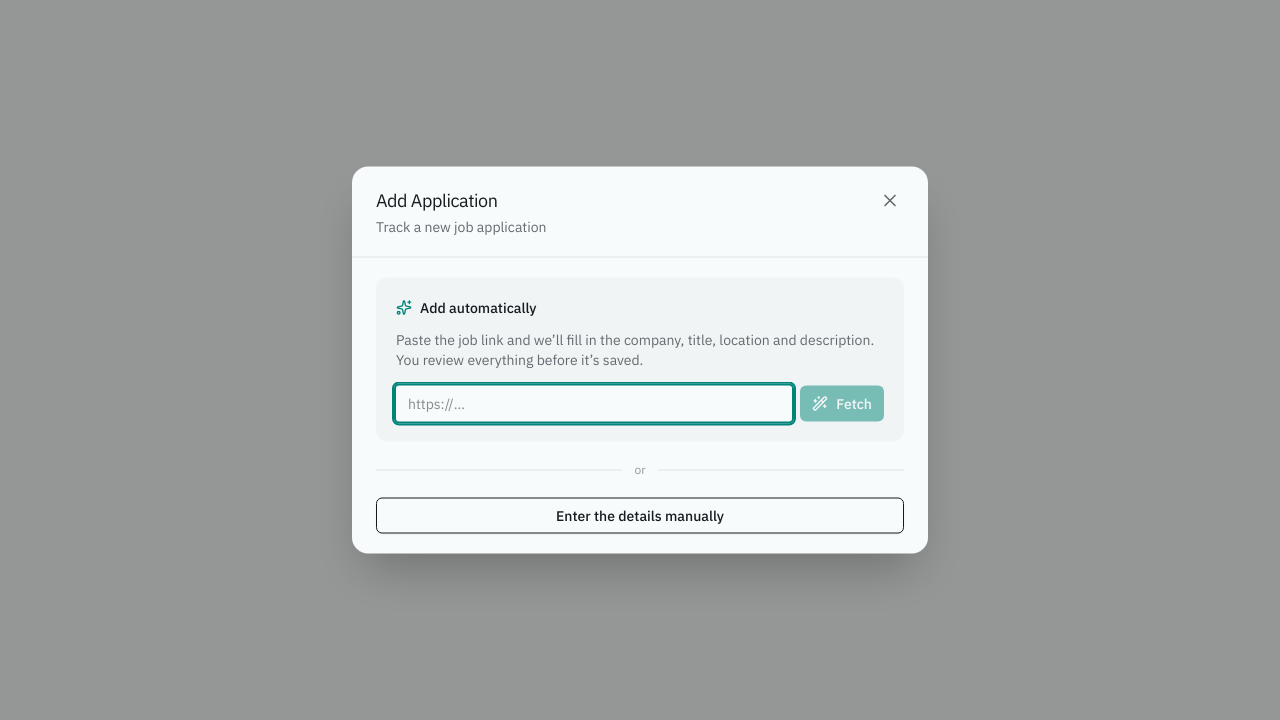
Test case: adding a job automatically › fills the form from what was read, and saves nothing on its own
In the field named "Job URL": (594, 404) [396, 386, 792, 422], type "https://boards.greenhouse.io/x/1"
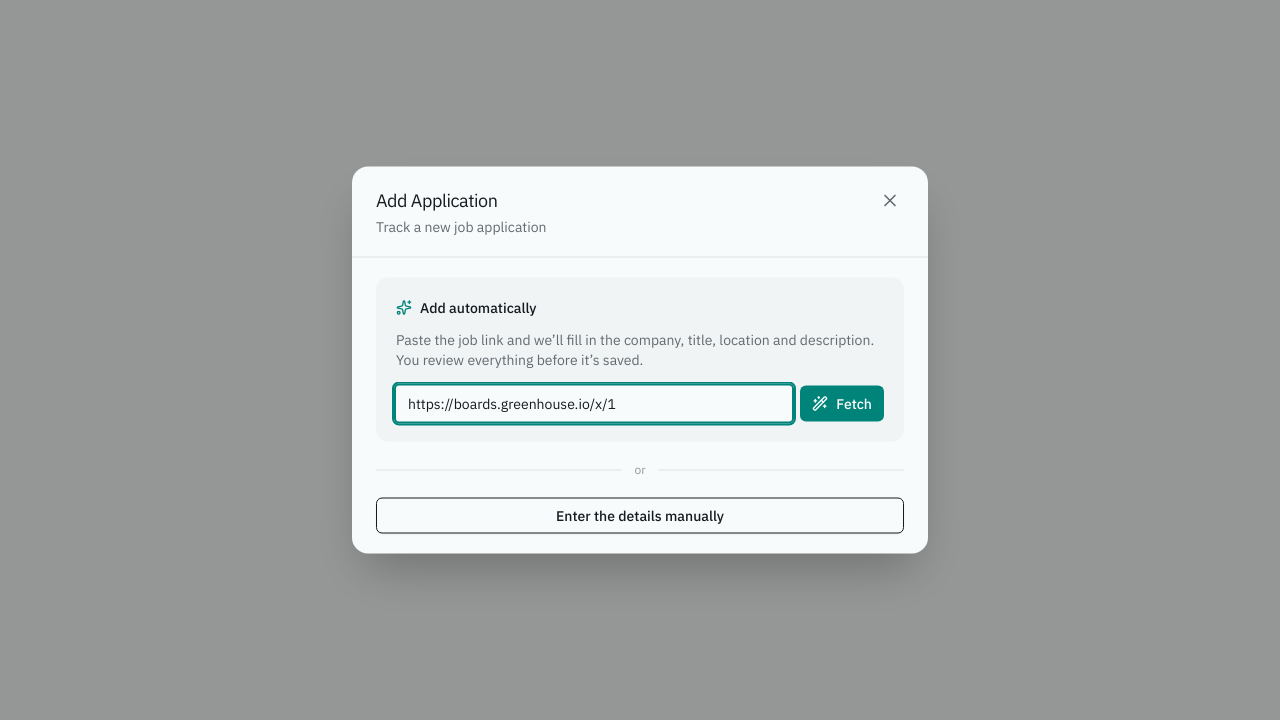
Click the button "Fetch": click(842, 404) [800, 386, 884, 422]
(page scrolled)
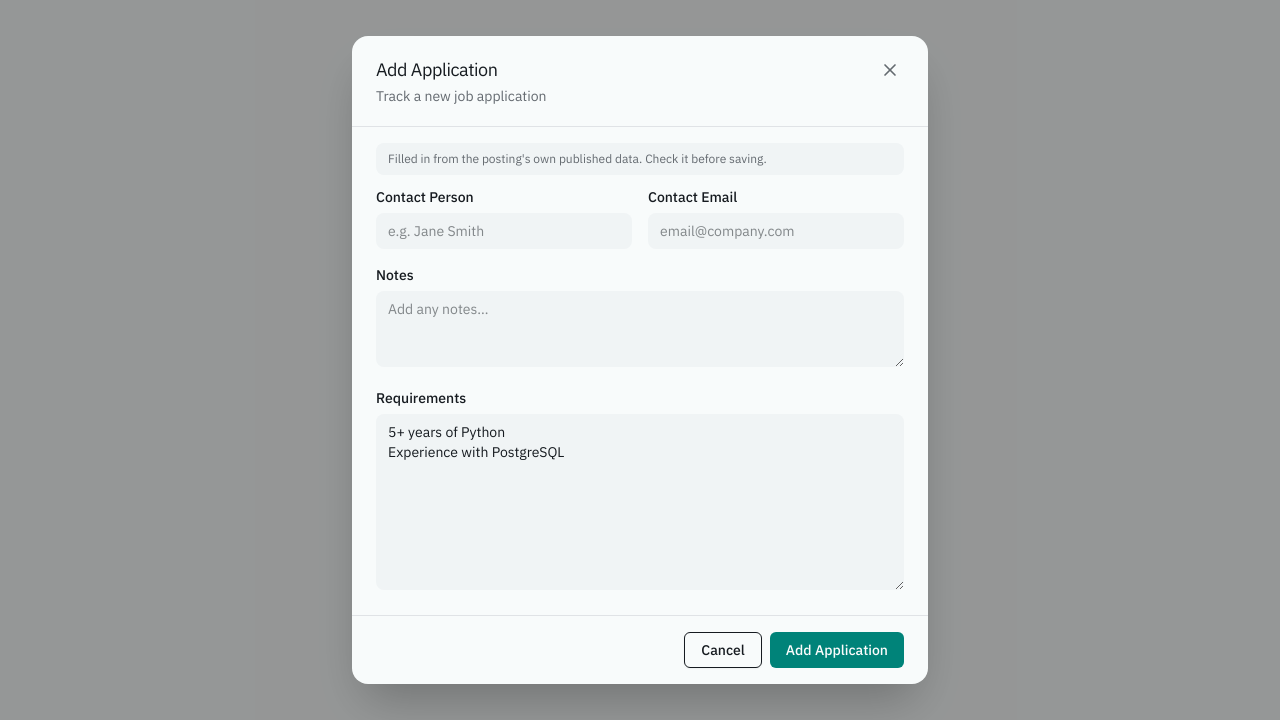
expect the element named "job_description" holds "About Acme. We build and operate services at scale.": met, box [376, 388, 904, 595]
